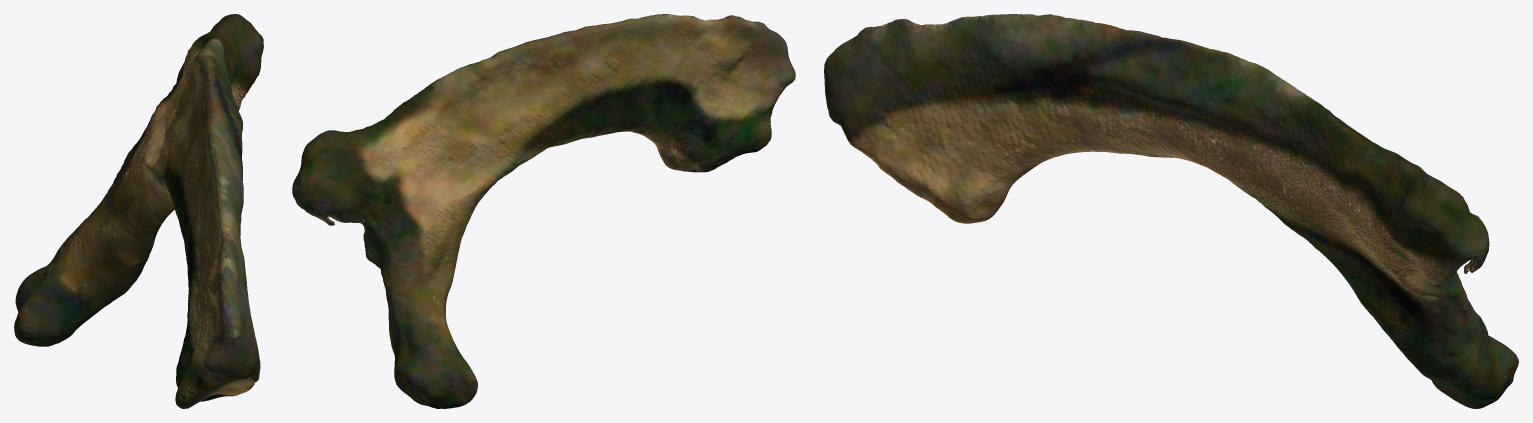
The model's file is 2r_ribs.glb.
The picture shows the model from 3 angles, left to right: view 1: azimuth 30°, elevation 25°; view 2: azimuth 150°, elevation 25°; view 3: azimuth 270°, elevation 25°; orthographic projection. The views are drawn at different scales.
Visible parts, largest first — view 1: Node; view 2: Node; view 3: Node.
Part boxes in pixels (left/top/right/bottom): Node: left=14, top=14, right=263, bottom=408; Node: left=292, top=14, right=795, bottom=408; Node: left=824, top=14, right=1518, bottom=408.
Size of the model in its own units: 15.55 by 15.67 by 26.51.
1 material, 1 textured.
